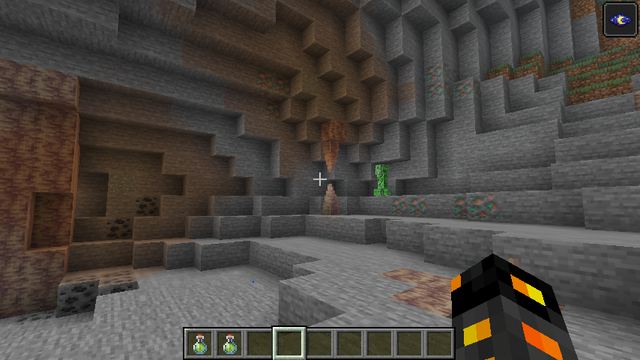coal: (17, 269, 137, 320), (105, 196, 159, 239)
copper: (423, 64, 481, 99), (254, 69, 291, 122), (453, 194, 499, 222), (392, 194, 429, 217)
